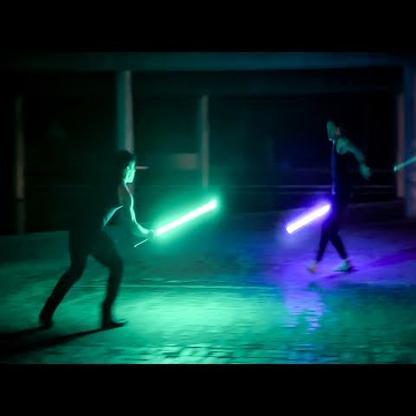lightsaber: (134, 196, 224, 253), (286, 201, 336, 239)
